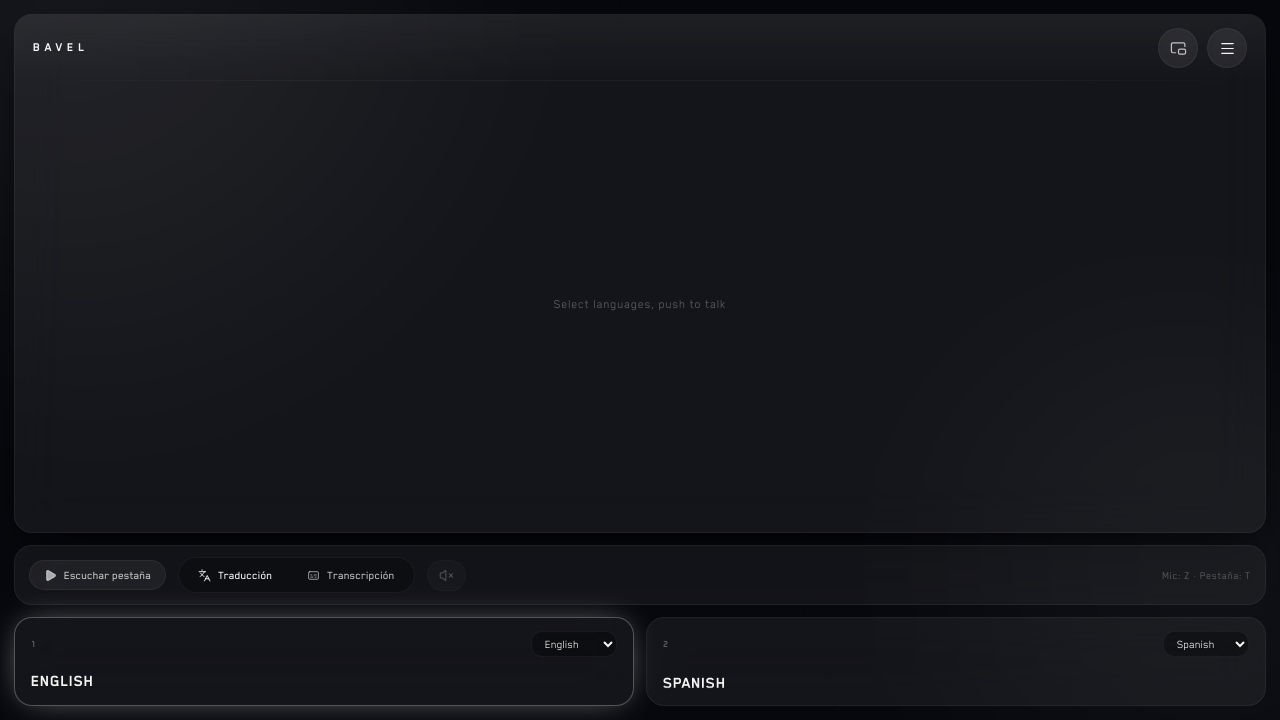
Scenario: streaming translation wiring › translates the held remainder when the utterance ends
Click the button "Escuchar pestaña" at coordinates (98, 575), box [29,560,166,590]
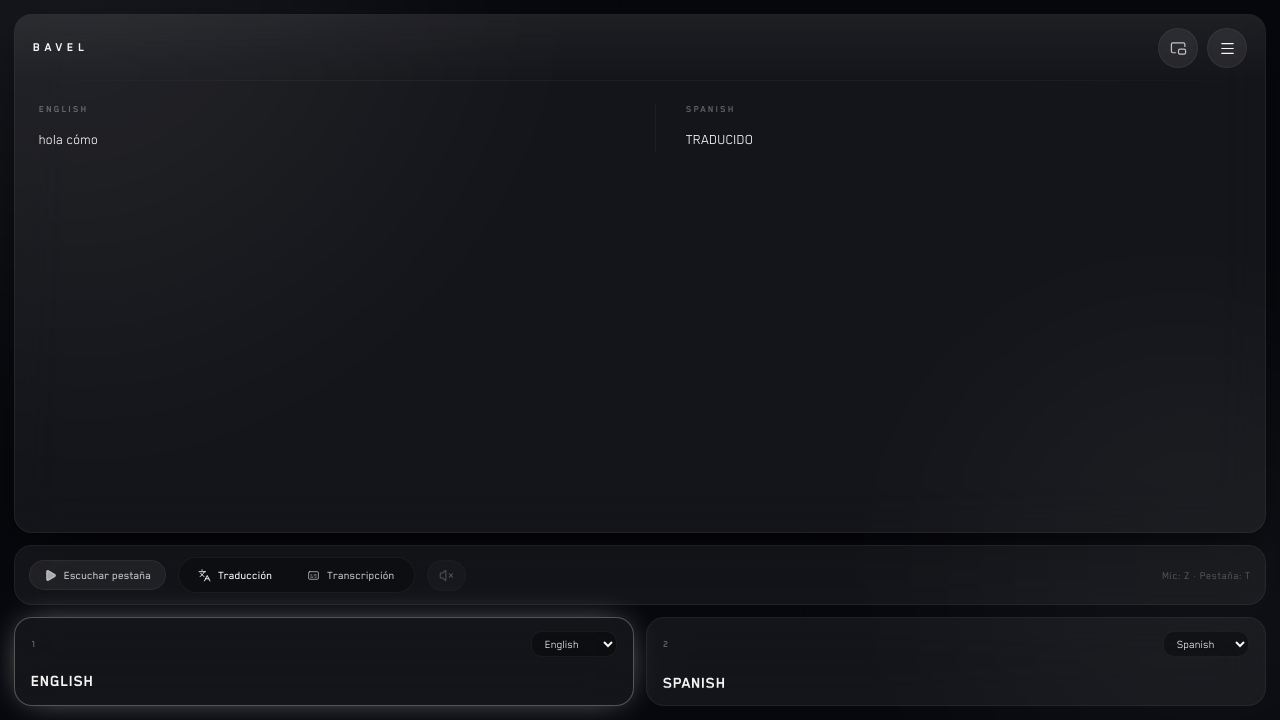
Expected: the element showing "hola cómo" is shown, [39,132,98,147]
